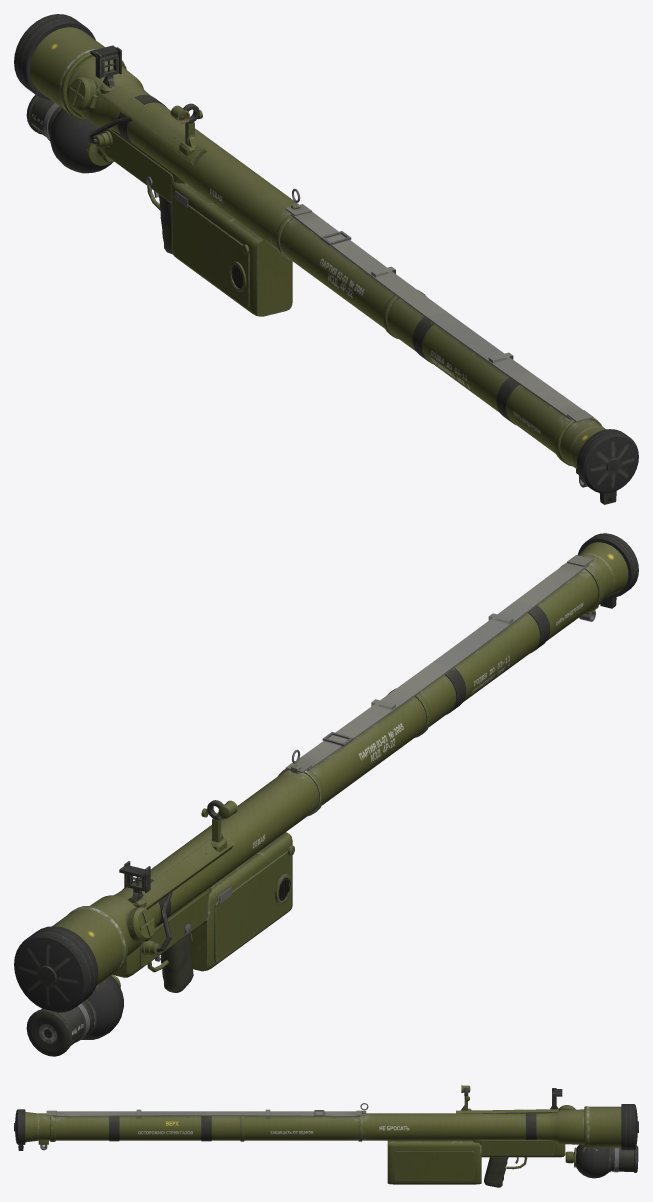
Rendered from mp_iglas.glb.
3 renders of one model, top to bottom at view 1: azimuth 30°, elevation 25°; view 2: azimuth 150°, elevation 25°; view 3: azimuth 270°, elevation 25°, orthographic. The views are drawn at different scales.
Visible parts, largest first — view 1: tube, grip, strap, nip, cap_r, sight, cap_f; view 2: tube, grip, strap, cap_f, nip, sight, cap_r; view 3: tube, grip, nip, strap, cap_f, cap_r, sight.
Boxes of the visible parts, x1,y1,x2,y2 form: tube: (30, 27, 606, 487); grip: (89, 117, 292, 316); strap: (285, 204, 593, 422); nip: (26, 94, 114, 173); cap_r: (576, 429, 638, 504); sight: (69, 45, 202, 155); cap_f: (14, 14, 95, 100); tube: (52, 542, 628, 985); grip: (113, 832, 294, 992); strap: (285, 555, 593, 772); cap_f: (14, 926, 98, 1012); nip: (26, 974, 123, 1056); sight: (119, 800, 237, 942); cap_r: (577, 533, 638, 608); tube: (25, 1103, 621, 1150); grip: (387, 1113, 565, 1187); nip: (565, 1144, 638, 1178); strap: (46, 1109, 366, 1117); cap_f: (621, 1104, 638, 1150); cap_r: (14, 1109, 25, 1150); sight: (460, 1085, 575, 1113).
Bounding box in the file's own units: 0.1439 × 0.3043 × 1.83.
1 material, 1 textured.
